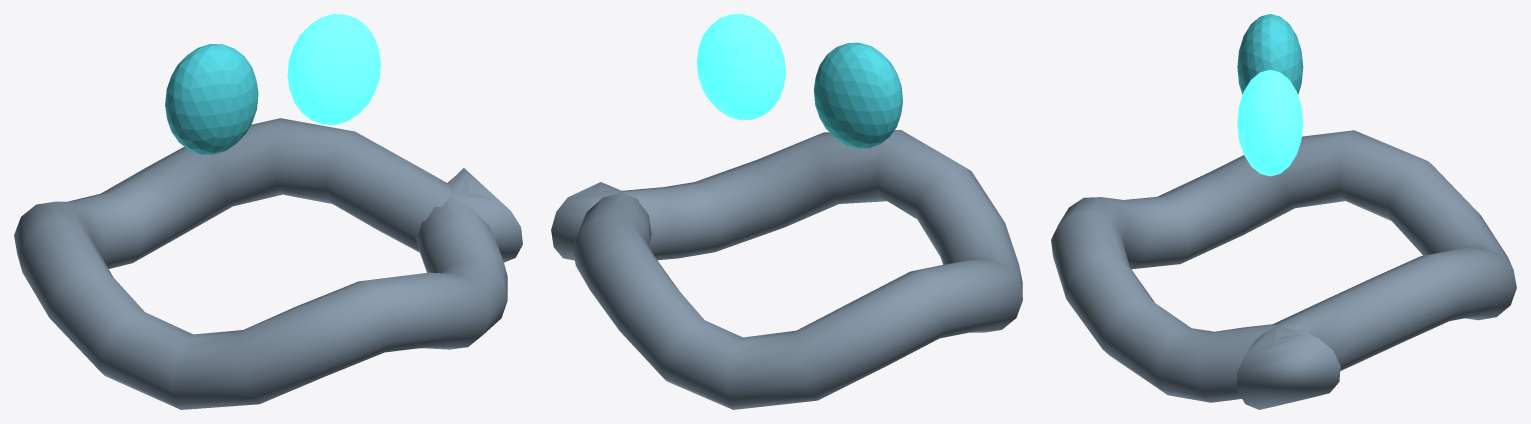
The model's file is ring_v8.glb.
3 views of the same model, side by side, from view 1: azimuth 30°, elevation 25°; view 2: azimuth 150°, elevation 25°; view 3: azimuth 270°, elevation 25° (orthographic). The views are drawn at different scales.
Visible parts, largest first — view 1: KNOT_RING_PRIMARY, KNOT_GEM_ACCENT, KNOT_GEM_EMISSIVE; view 2: KNOT_RING_PRIMARY, KNOT_GEM_EMISSIVE, KNOT_GEM_ACCENT; view 3: KNOT_RING_PRIMARY, KNOT_GEM_EMISSIVE, KNOT_GEM_ACCENT.
Part boxes in pixels (x1,y1,x2,y2): KNOT_RING_PRIMARY: (14, 118, 522, 409); KNOT_GEM_ACCENT: (165, 44, 258, 154); KNOT_GEM_EMISSIVE: (287, 14, 380, 124); KNOT_RING_PRIMARY: (551, 130, 1022, 409); KNOT_GEM_EMISSIVE: (696, 14, 785, 120); KNOT_GEM_ACCENT: (814, 42, 902, 148); KNOT_RING_PRIMARY: (1051, 130, 1516, 409); KNOT_GEM_EMISSIVE: (1237, 69, 1303, 176); KNOT_GEM_ACCENT: (1237, 14, 1303, 94).
Bounding box in the file's own units: 1.76 × 1.13 × 1.7.
